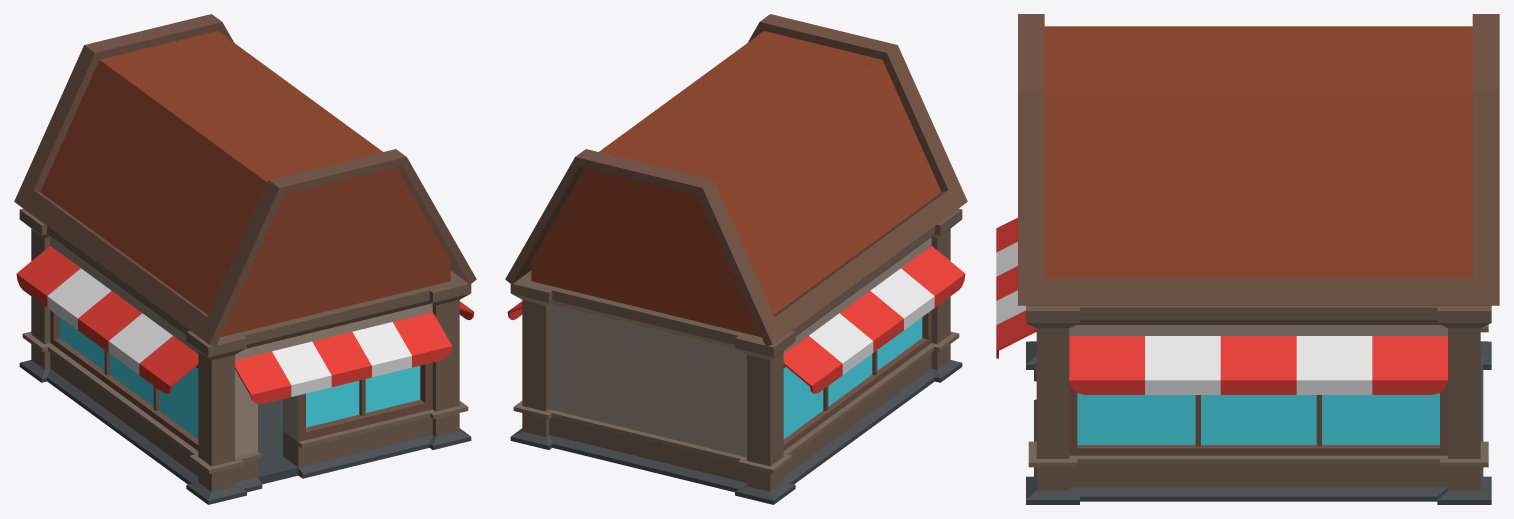
File: SM_Buildings_Commercial_05.fbx
3 renders of one model, left to right at view 1: azimuth 30°, elevation 25°; view 2: azimuth 150°, elevation 25°; view 3: azimuth 270°, elevation 25°, orthographic. The views are drawn at different scales.
Parts seen in each view (by area): view 1: SM_Buildings_Commercial_05; view 2: SM_Buildings_Commercial_05; view 3: SM_Buildings_Commercial_05.
Part boxes in pixels (x1,y1,x2,y2): SM_Buildings_Commercial_05: [14, 14, 476, 504]; SM_Buildings_Commercial_05: [505, 14, 967, 504]; SM_Buildings_Commercial_05: [996, 14, 1499, 504].
Bounding box in the file's own units: 8.1 × 7.7 × 9.4.
